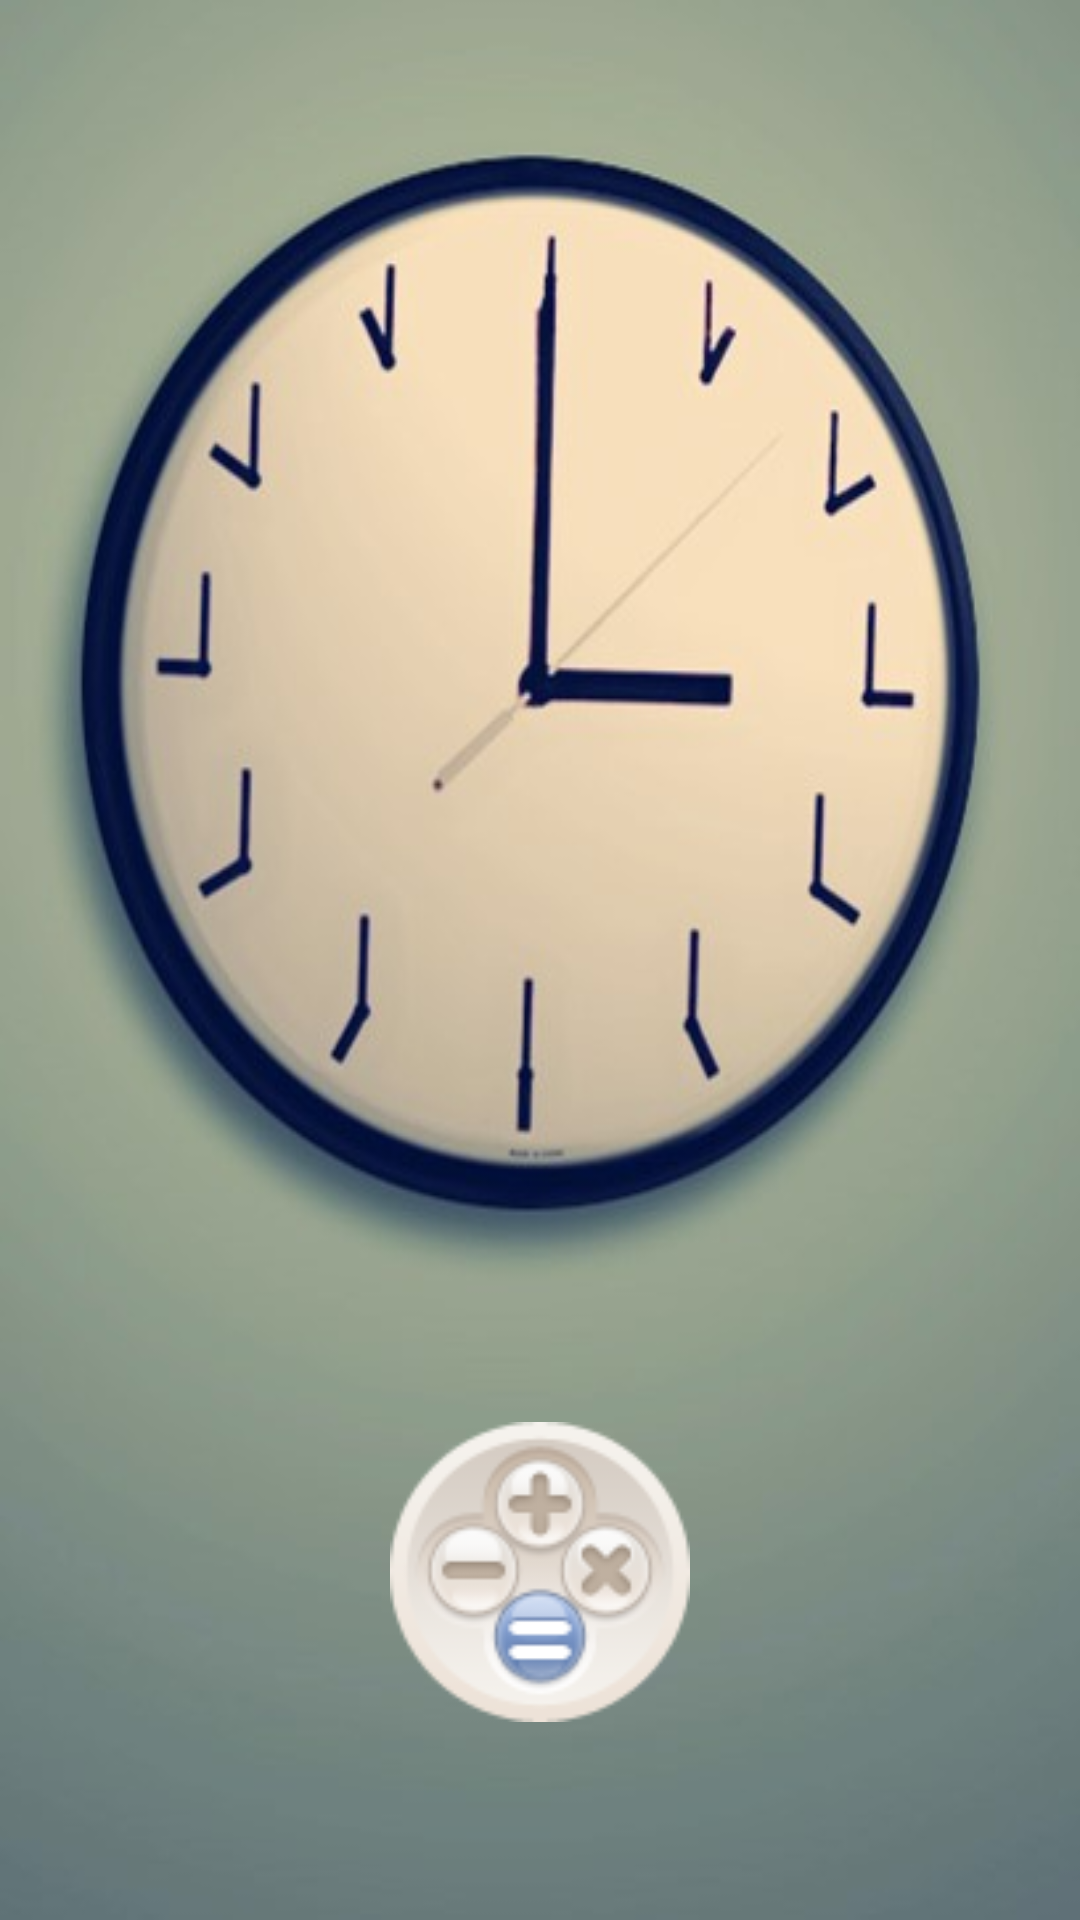

Icons on this 1080×1920 Android screen, each with the point to tap as (x,y):
counter: (540,1572)
